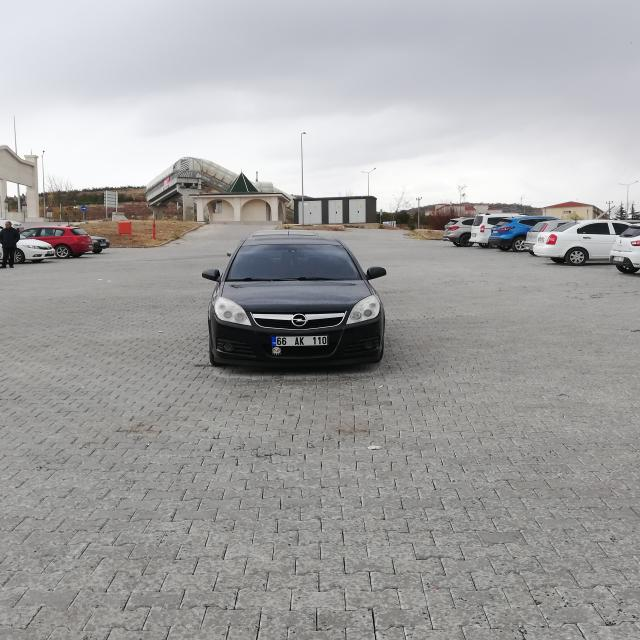license_plate: (271, 336, 328, 346)
